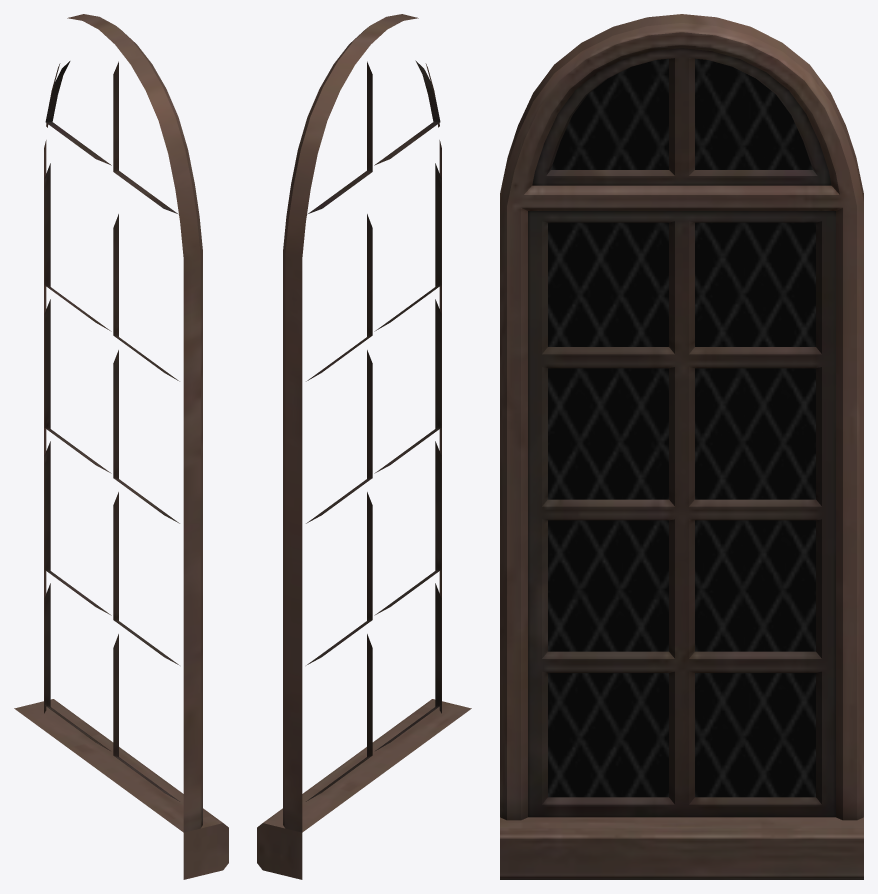
The picture shows the model from 3 angles, left to right: view 1: azimuth 30°, elevation 25°; view 2: azimuth 150°, elevation 25°; view 3: azimuth 270°, elevation 25°; orthographic projection. The views are drawn at different scales.
Parts seen in each view (by area): view 1: body0_model0_lod0_mesh1; view 2: body0_model0_lod0_mesh1; view 3: body0_model0_lod0_mesh1, body0_model0_lod0_mesh0.
Boxes of the visible parts, <box> form: body0_model0_lod0_mesh1: <box>14,14,228,879</box>; body0_model0_lod0_mesh1: <box>257,14,471,879</box>; body0_model0_lod0_mesh1: <box>500,14,863,879</box>; body0_model0_lod0_mesh0: <box>548,58,815,797</box>.
Size of the model in its own units: 8 by 133 by 51.99.
Materials: 2 (2 with a texture image).
